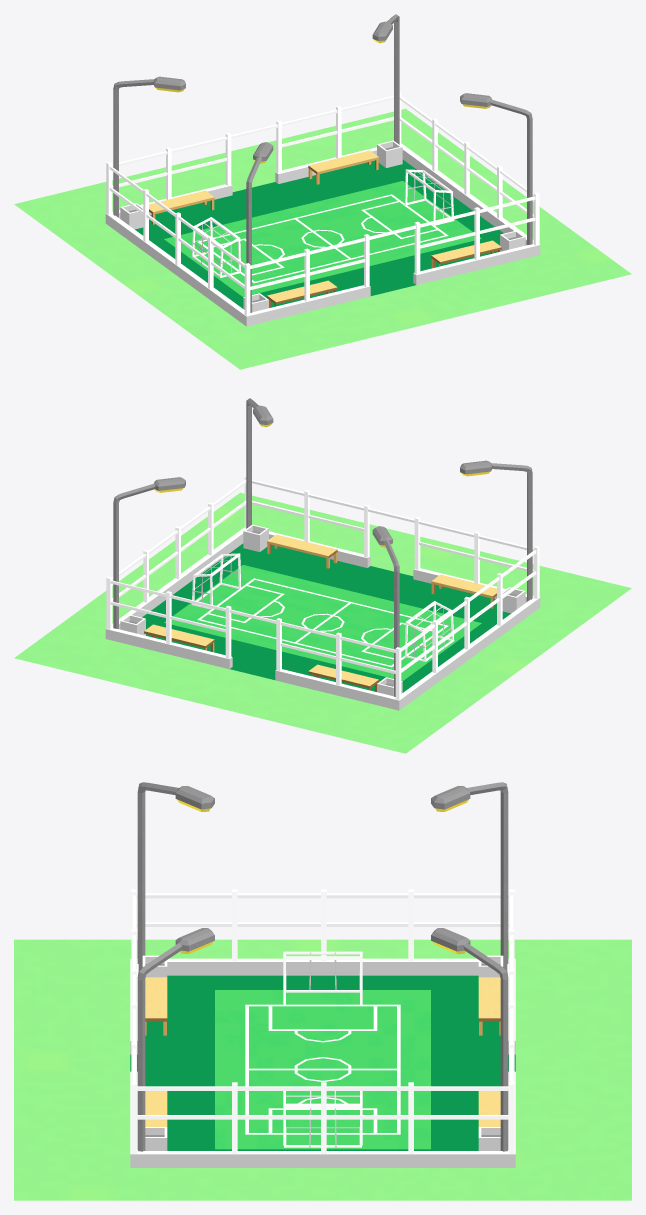
File: landscape_entertainments.007.glb
The picture shows the model from 3 angles, top to bottom: view 1: azimuth 30°, elevation 25°; view 2: azimuth 150°, elevation 25°; view 3: azimuth 270°, elevation 25°; orthographic projection. The views are drawn at different scales.
Visible parts, largest first — view 1: landscape_entertainments.007(Clone); view 2: landscape_entertainments.007(Clone); view 3: landscape_entertainments.007(Clone).
Part boxes in pixels (x1,y1,x2,y2): landscape_entertainments.007(Clone): [14, 14, 631, 369]; landscape_entertainments.007(Clone): [14, 398, 631, 753]; landscape_entertainments.007(Clone): [14, 782, 631, 1200].
Bounding box in the file's own units: 16 × 6.16 × 16.
1 material, 1 textured.
